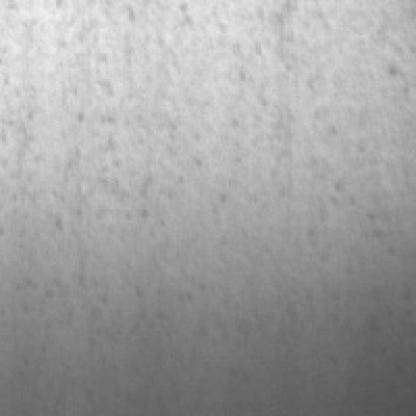pitted_surface: (25, 0, 414, 414)
